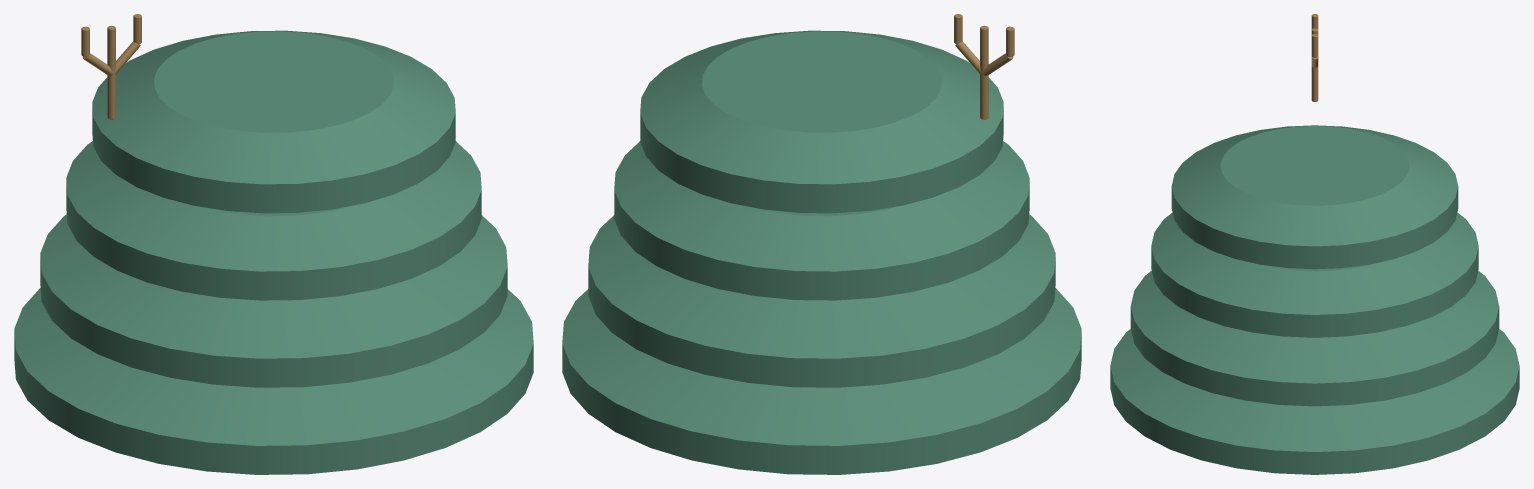
3 views of the same model, side by side, from view 1: azimuth 30°, elevation 25°; view 2: azimuth 150°, elevation 25°; view 3: azimuth 270°, elevation 25° (orthographic). The views are drawn at different scales.
Visible parts, largest first — view 1: Terraced oval hull.003, Terraced oval hull, Terraced oval hull.001, Terraced oval hull.002, Aerial stem; view 2: Terraced oval hull.003, Terraced oval hull, Terraced oval hull.001, Terraced oval hull.002, Aerial stem; view 3: Terraced oval hull.003, Terraced oval hull, Terraced oval hull.001, Terraced oval hull.002.
Part boxes in pixels (bbox=[...]): Terraced oval hull.003: bbox=[92, 30, 455, 213]; Terraced oval hull: bbox=[14, 288, 533, 474]; Terraced oval hull.001: bbox=[40, 214, 507, 387]; Terraced oval hull.002: bbox=[66, 141, 481, 300]; Aerial stem: bbox=[107, 25, 115, 119]; Terraced oval hull.003: bbox=[640, 30, 1003, 213]; Terraced oval hull: bbox=[562, 288, 1081, 474]; Terraced oval hull.001: bbox=[588, 214, 1055, 387]; Terraced oval hull.002: bbox=[614, 141, 1029, 300]; Aerial stem: bbox=[980, 25, 988, 119]; Terraced oval hull.003: bbox=[1171, 125, 1458, 269]; Terraced oval hull: bbox=[1110, 329, 1519, 474]; Terraced oval hull.001: bbox=[1130, 271, 1499, 406]; Terraced oval hull.002: bbox=[1151, 212, 1478, 337].
Size of the model in its own units: 2.6 by 2.21 by 2.6.
